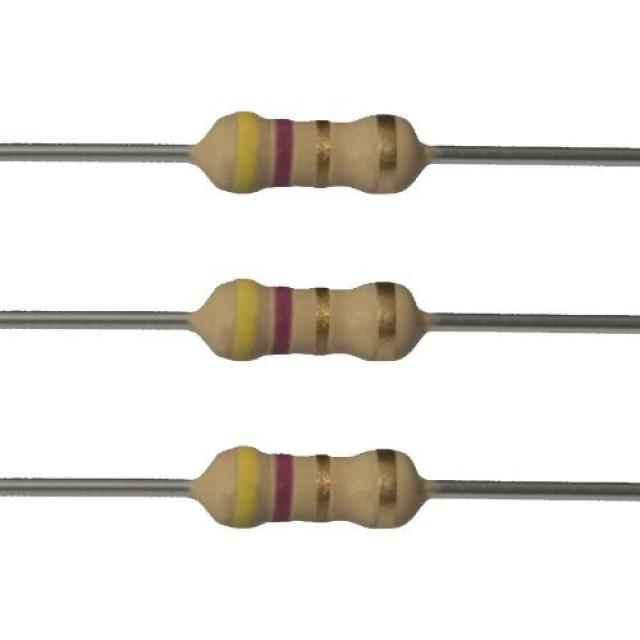Resistor: (186, 445, 432, 526), (185, 279, 434, 359), (188, 112, 430, 192)
